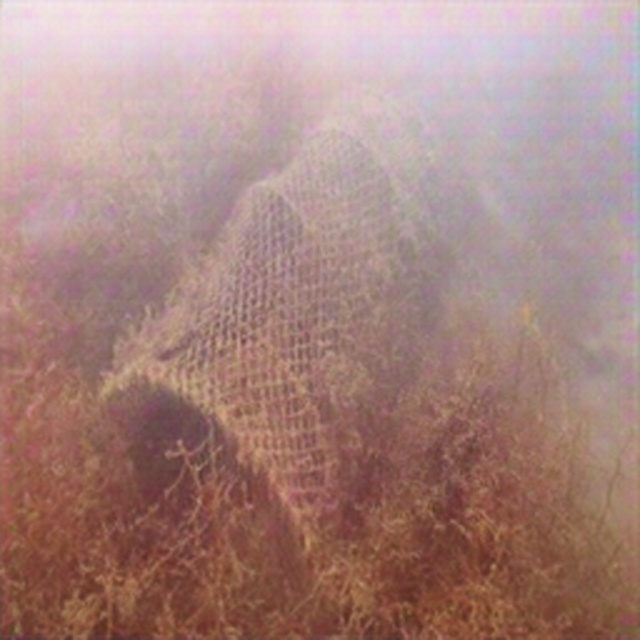mine: (98, 84, 443, 590)
